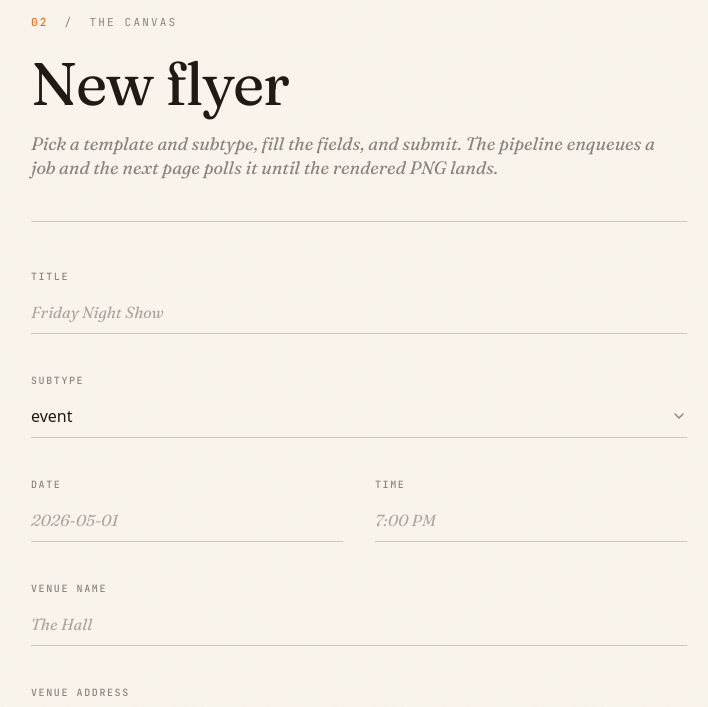
NewFlyerPage — Phase 22 template + subtype › switching to info hides event fields and shows description + CTA
Click the dropdown with test id "subtype-select" at (52, 416), box [31,394,687,438]
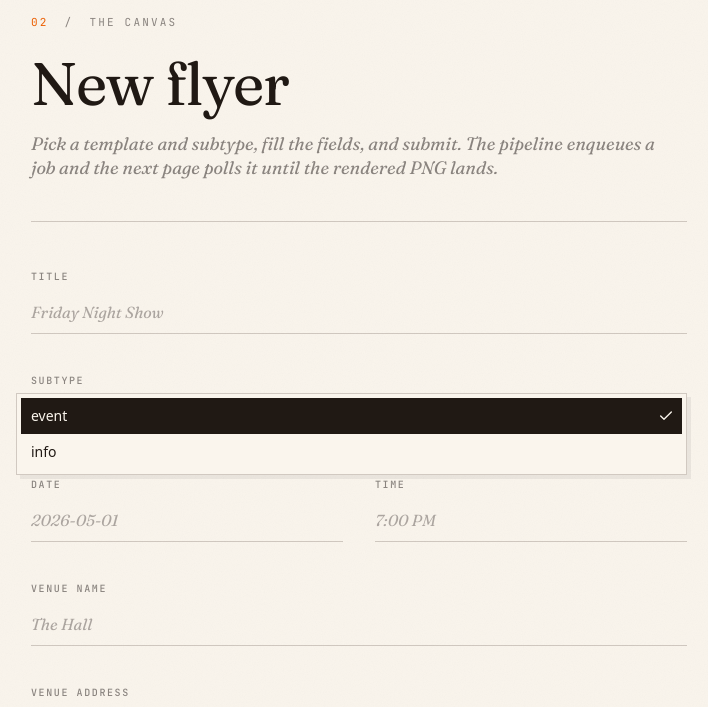
Click the option "info" at (44, 452), box [31,442,57,461]
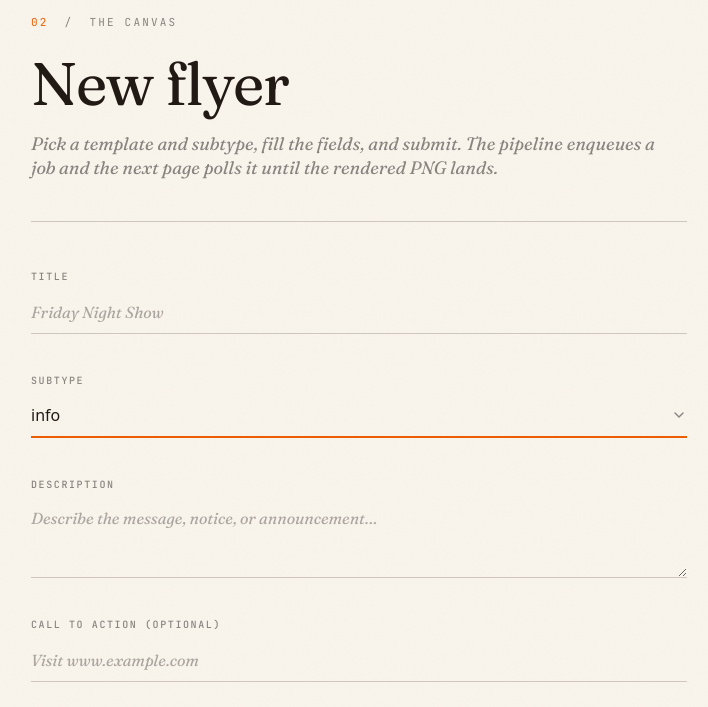
Now the label labelled "Date" is gone
Now the label labelled "Time" is gone
Now the label labelled "Venue name" is gone
